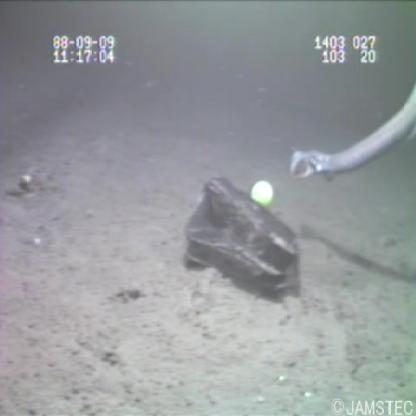Bio: (287, 74, 416, 184)
Rác: (178, 172, 304, 306)
